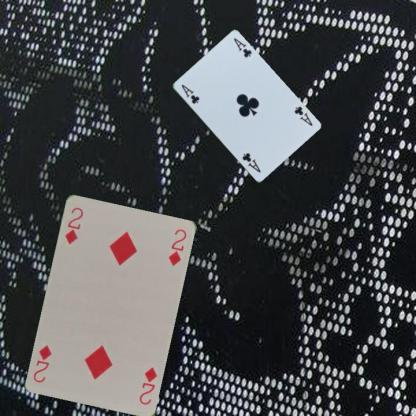2d: (136, 364, 159, 406), (62, 204, 84, 245)
Ac: (291, 104, 314, 127), (179, 82, 201, 105)
